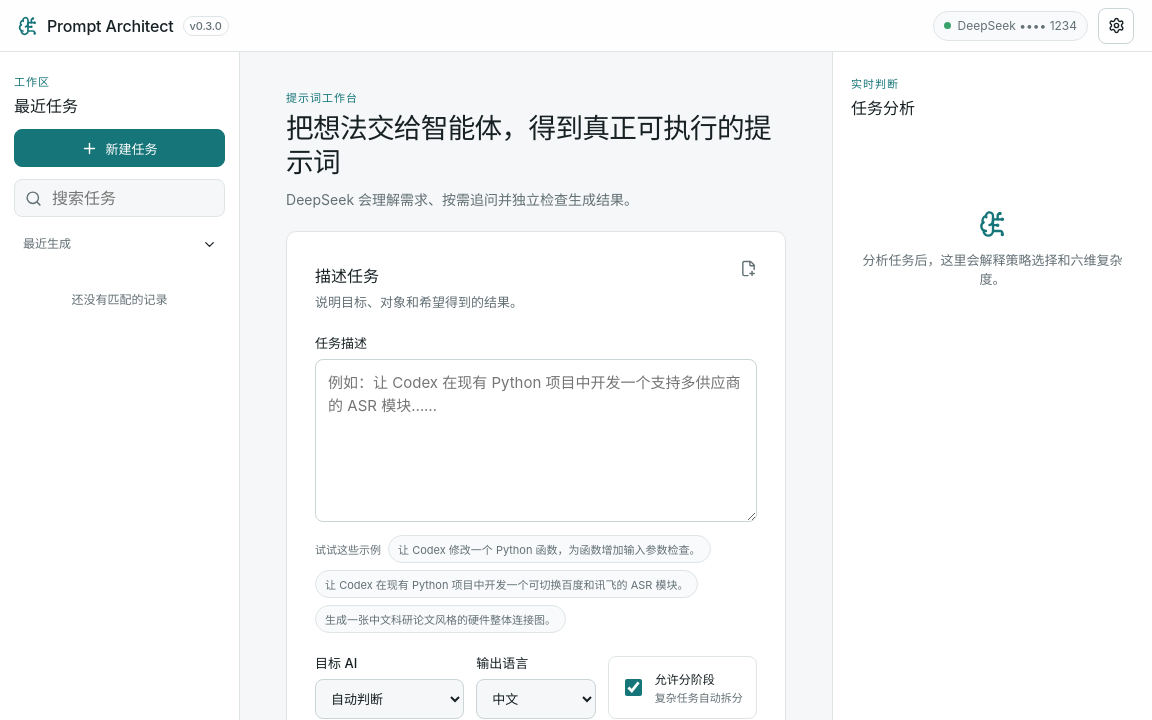
it: Prompt Architect workbench › turns missing information into answerable questions
The image size is (1152, 720).
Type "帮我优化一下这个项目。" into the text box labelled "任务描述" at (536, 440), box [315,358,757,522]
(page scrolled)
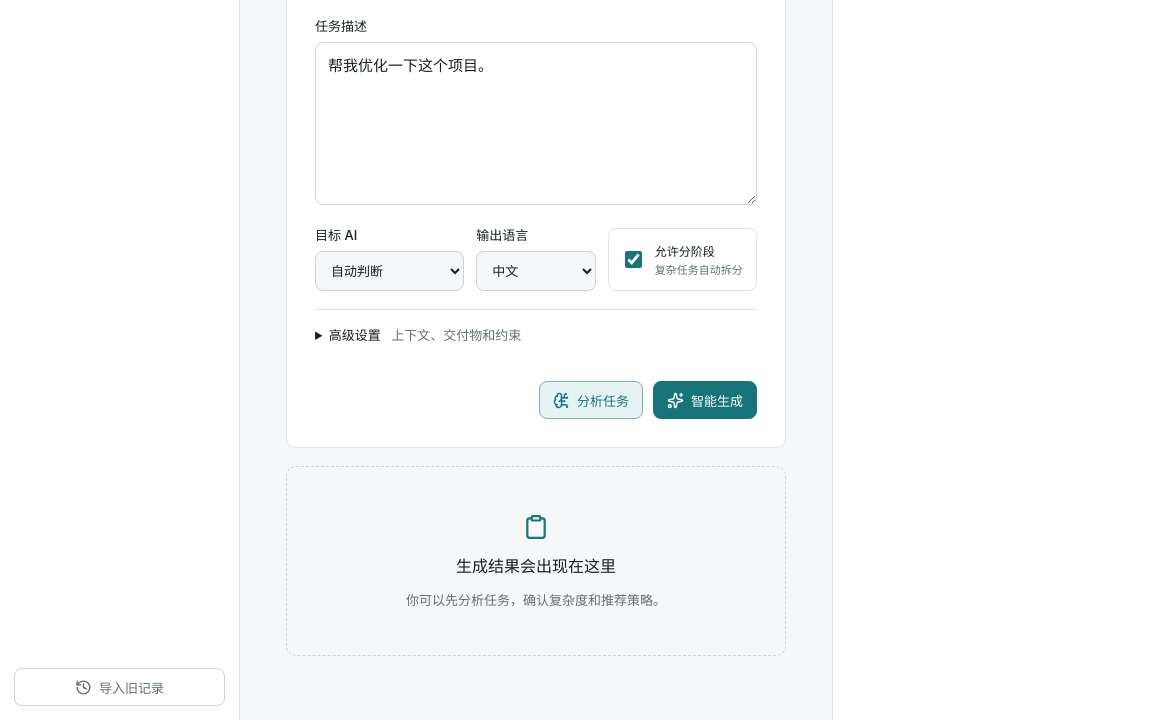
Click the button "智能生成" at (705, 400), box [653,381,757,419]
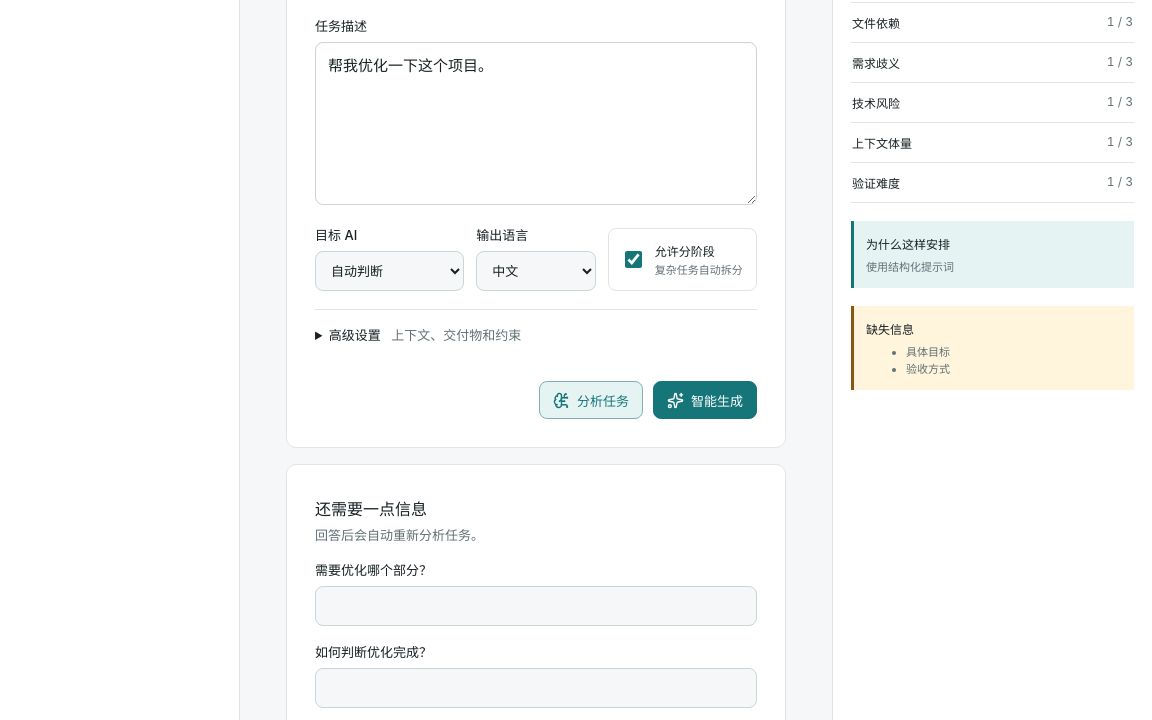
Check: the heading "还需要一点信息" is shown, box [315,499,427,519]
Check: the field labelled "需要优化哪个部分？" is shown, box [315,586,757,626]
Check: the field labelled "如何判断优化完成？" is shown, box [315,668,757,708]
